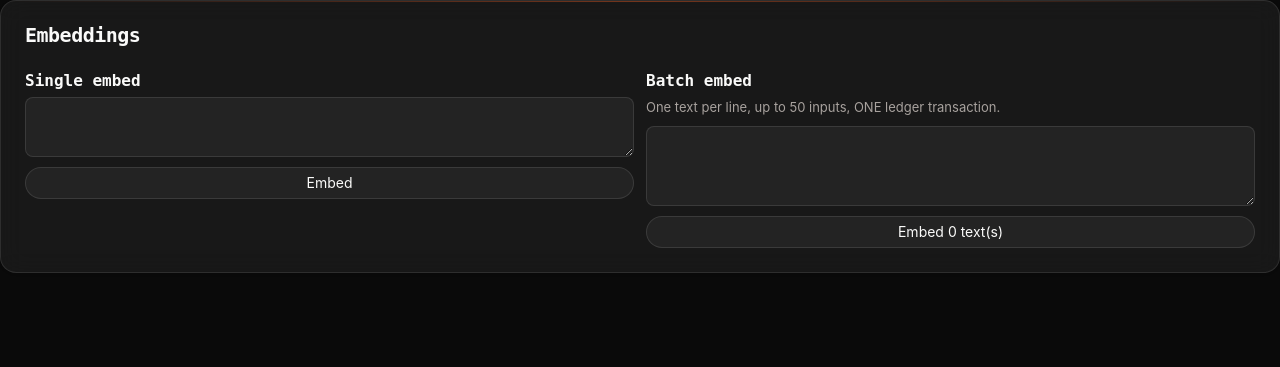
Test: EmbeddingsPanel › renders the error envelope for a failed batch embed
The width and height of the screenshot is (1280, 367).
Type "first" into the text box named "Batch embed texts" at (950,166), box [646,126,1255,206]
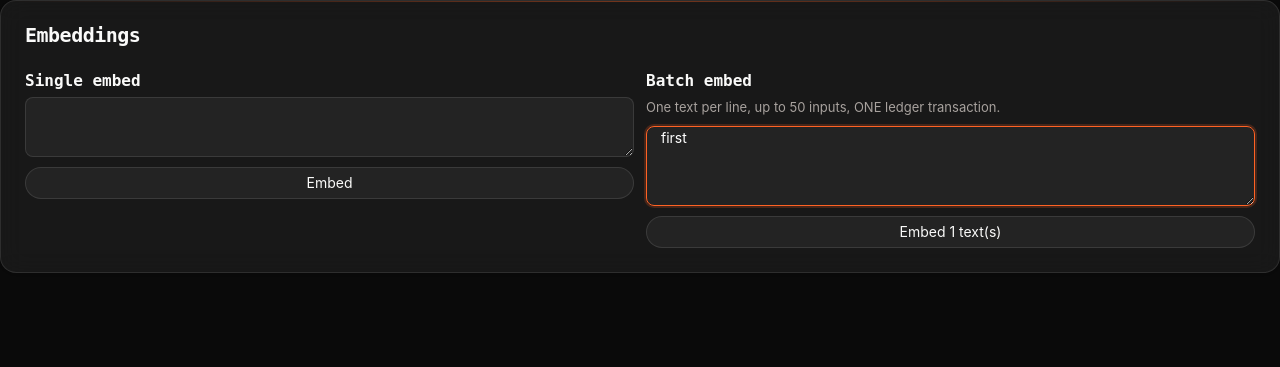
Click the button "Embed 1 text(s)" at (950,232), box [646,216,1255,248]
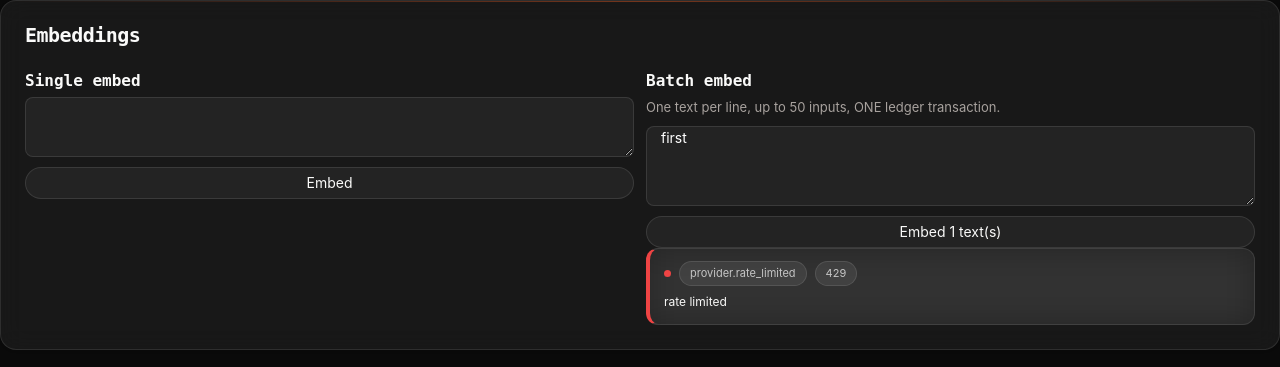
Expected: the message shows "rate limited", [664,294,727,309]
